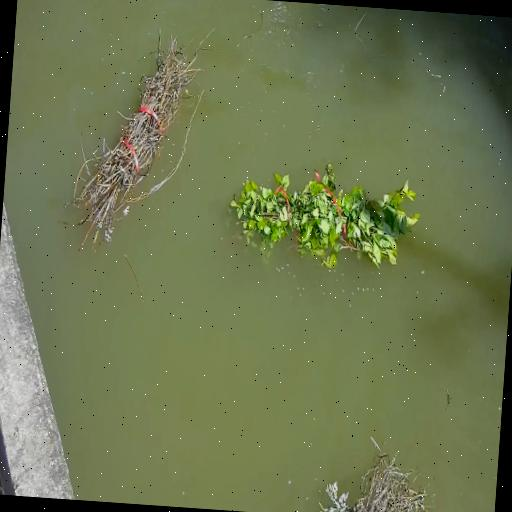twig: (70, 39, 203, 246), (229, 163, 419, 268), (321, 437, 428, 512)
